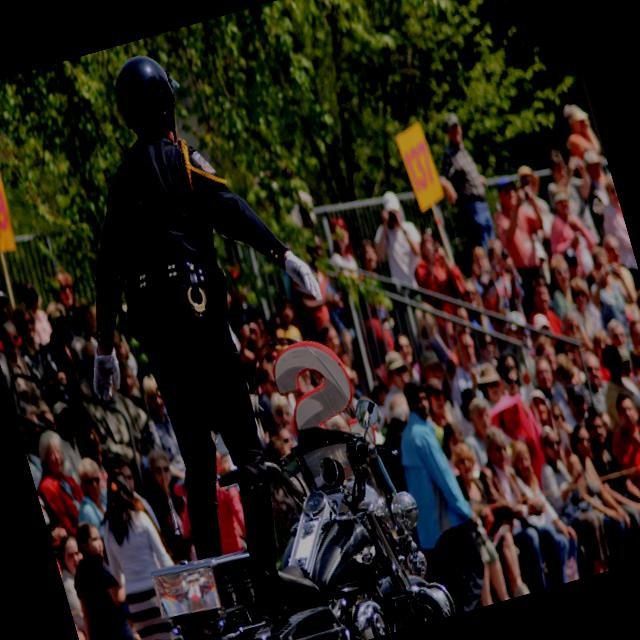Vehicle: (67, 384, 458, 640)
